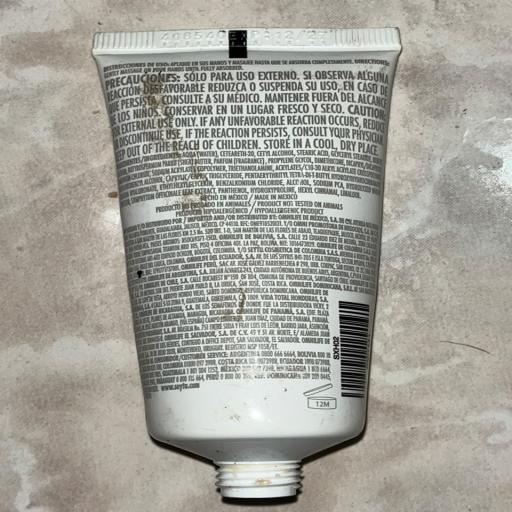HDPE: (28, 19, 462, 498)
